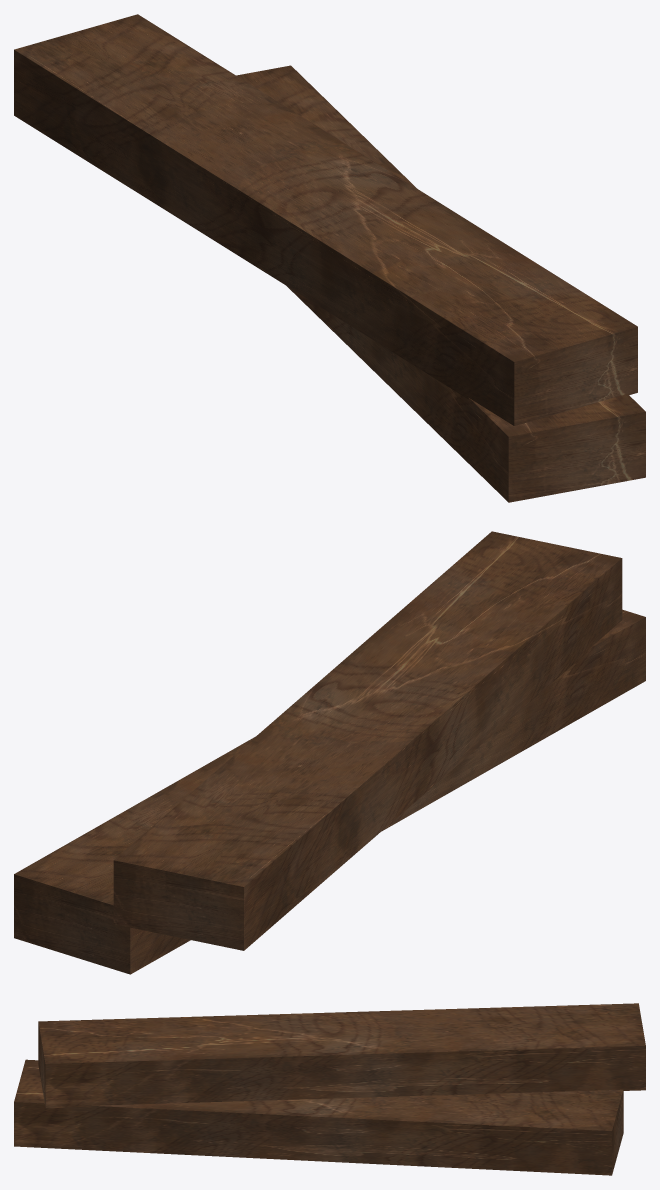
File: 2MaderasJuntasParaMesaCierra.fbx
3 views of the same model, one above another, from view 1: azimuth 30°, elevation 25°; view 2: azimuth 150°, elevation 25°; view 3: azimuth 270°, elevation 25° (orthographic). The views are drawn at different scales.
Visible parts, largest first — view 1: Madera_01.001, Madera_01; view 2: Madera_01.001, Madera_01; view 3: Madera_01.001, Madera_01.
Boxes of the visible parts, <box> form: Madera_01.001: <box>14,14,637,425</box>; Madera_01: <box>236,65,645,502</box>; Madera_01.001: <box>113,531,622,950</box>; Madera_01: <box>14,609,645,974</box>; Madera_01.001: <box>38,1003,645,1108</box>; Madera_01: <box>14,1059,623,1175</box>.
Size of the model in its own units: 99.73 by 48.18 by 315.
1 material, 1 textured.
